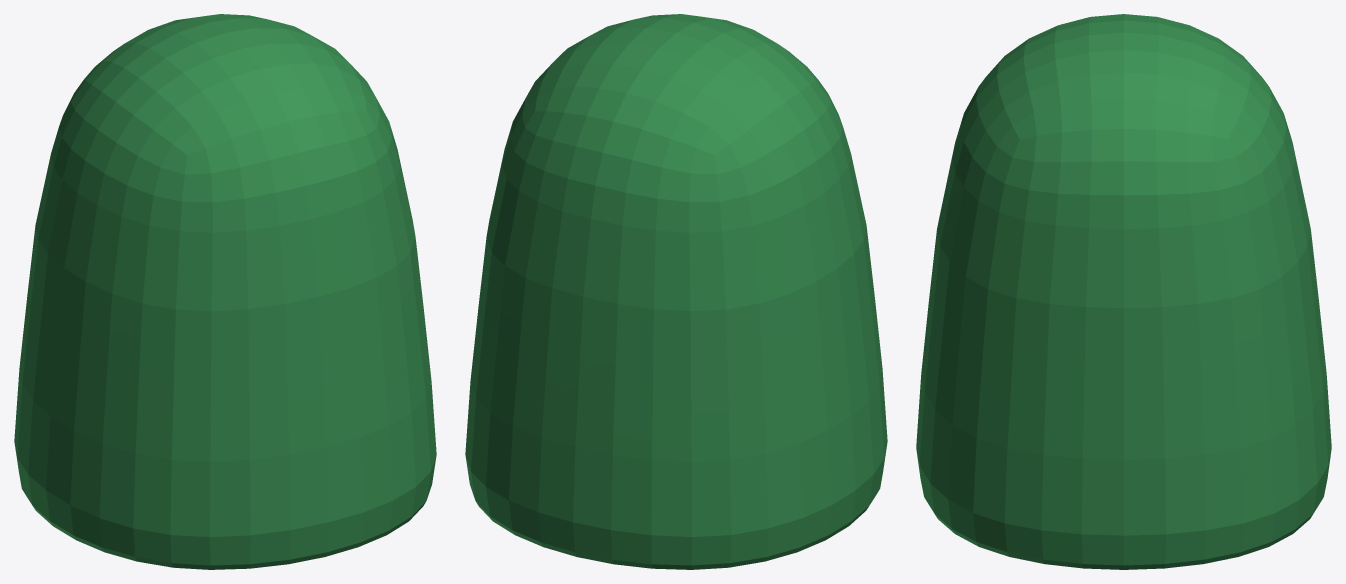
Rendered from Tree3.fbx.
3 renders of one model, left to right at view 1: azimuth 30°, elevation 25°; view 2: azimuth 150°, elevation 25°; view 3: azimuth 270°, elevation 25°, orthographic.
Visible parts, largest first — view 1: Tree3; view 2: Tree3; view 3: Tree3.
Part boxes in pixels (box(x1,y1,x2,y2)): Tree3: box(14, 14, 436, 569); Tree3: box(465, 14, 887, 569); Tree3: box(916, 14, 1331, 569).
Size of the model in its own units: 0.0188 by 0.023 by 0.0188.
